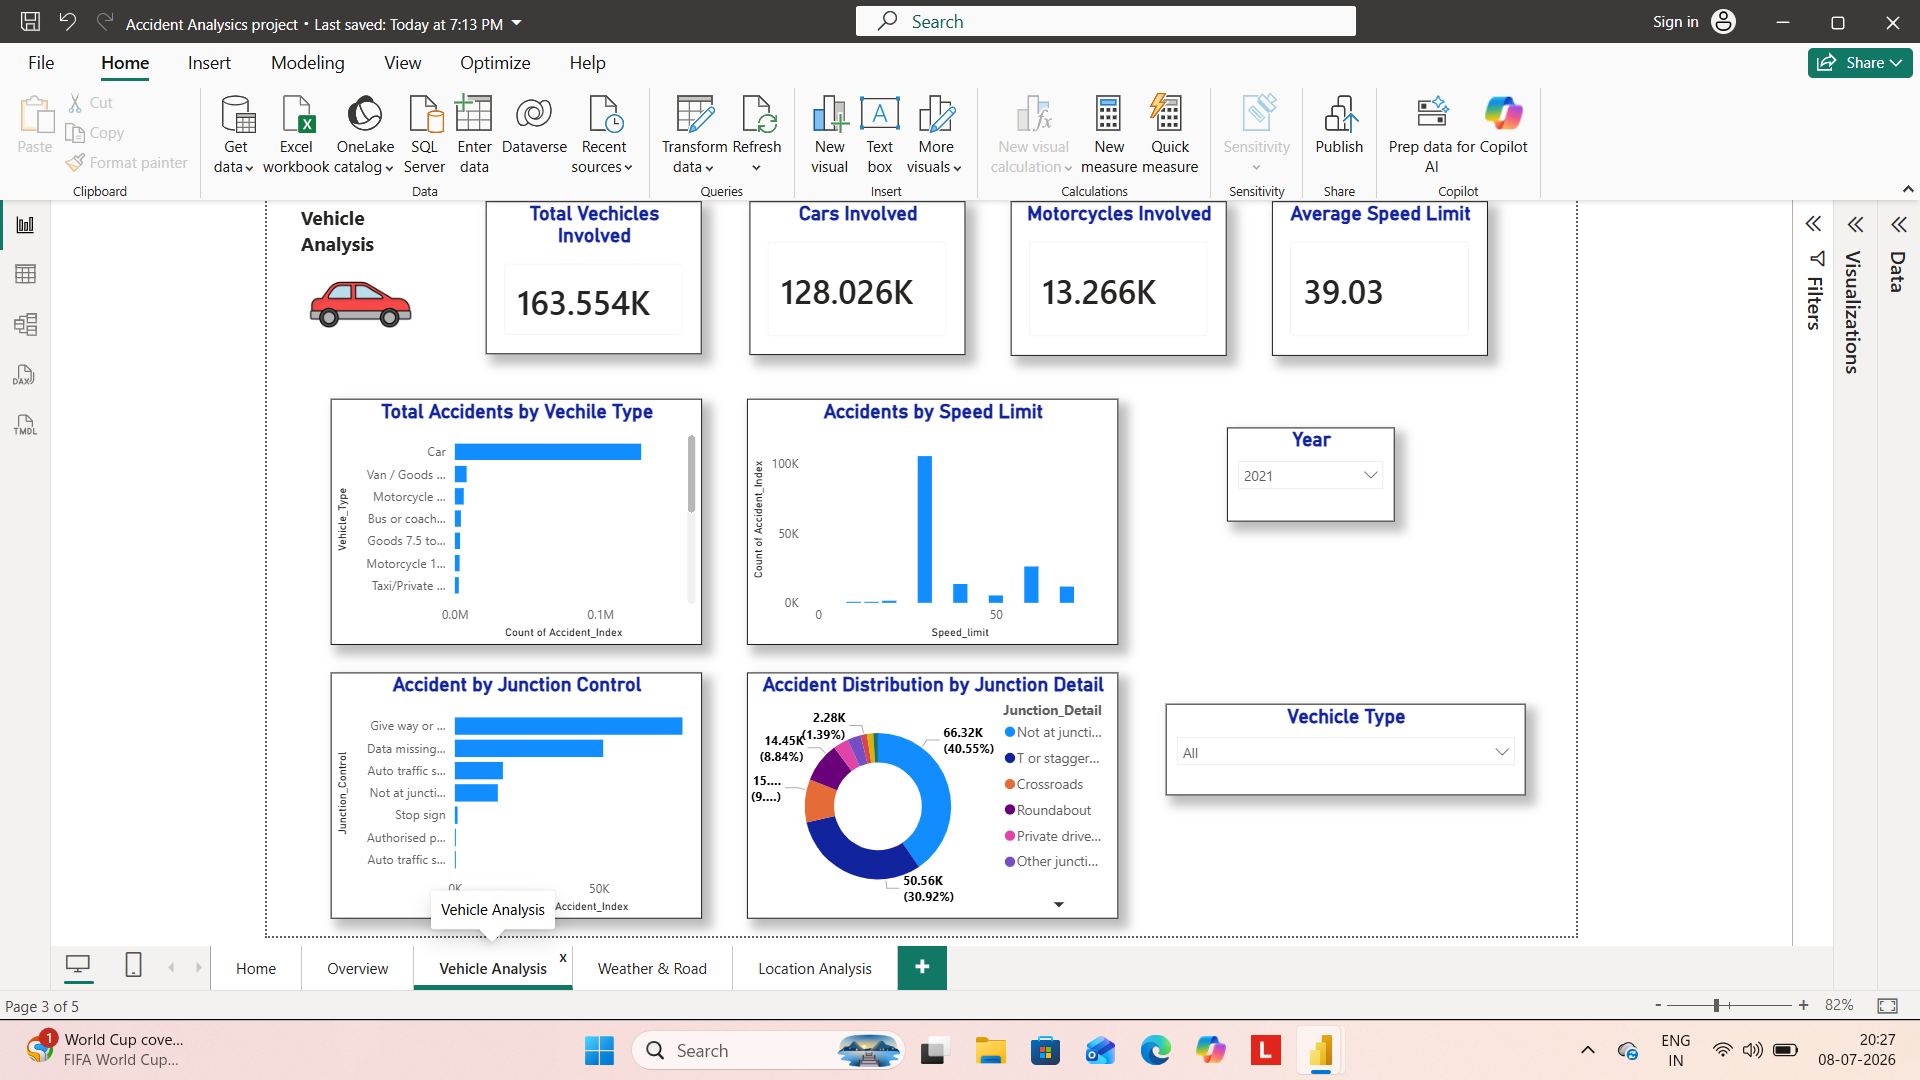

Layout of this report page (visuals, bound fields, positions):
{"tool":"powerbi","page":{"name":"Vehicle Analysis","canvas":[1280,720],"ordinal":2},"visuals":[{"type":"image","box":[15.5,21.1,152.1,108.5],"z":0},{"type":"textbox","box":[28.2,0,139.4,74.6],"z":1000},{"type":"cardVisual","title":"Total Vechicles Involved","fields":{"Data":["CountNonNull(Road Accident Data.Vehicle_Type)"]},"box":[214.1,1.4,211.3,149.3],"z":2000},{"type":"cardVisual","title":"Cars Involved","fields":{"Data":["CountNonNull(Road Accident Data.Vehicle_Type)"]},"box":[471.8,1.4,211.3,150.7],"z":3000},{"type":"cardVisual","title":"Motorcycles Involved","fields":{"Data":["CountNonNull(Road Accident Data.Vehicle_Type)"]},"box":[727.5,1,211,151],"z":4000},{"type":"cardVisual","title":"Average Speed Limit","fields":{"Data":["Avg(Road Accident Data.Speed_limit)"]},"box":[983.5,1,211,151],"z":5000},{"type":"clusteredBarChart","title":"Total Accidents by Vechile Type","fields":{"Category":["Road Accident Data.Vehicle_Type"],"Y":["CountNonNull(Road Accident Data.Accident_Index)"]},"box":[62,194.4,363.4,240.8],"z":6000},{"type":"clusteredColumnChart","title":"Accidents by Speed Limit","fields":{"Category":["Road Accident Data.Speed_limit"],"Y":["CountNonNull(Road Accident Data.Accident_Index)"]},"box":[469,194.4,363.4,240.8],"z":7000},{"type":"clusteredBarChart","title":"Accident by Junction Control","fields":{"Y":["CountNonNull(Road Accident Data.Accident_Index)"],"Category":["Road Accident Data.Junction_Control"]},"box":[62,462,363,241],"z":8000},{"type":"donutChart","title":"Accident Distribution by Junction Detail","fields":{"Category":["Road Accident Data.Junction_Detail"],"Y":["CountNonNull(Road Accident Data.Accident_Index)"]},"box":[469,462,363,241],"z":9000},{"type":"slicer","title":"Year","fields":{"Values":["Road Accident Data.Accident Date.Variation.Date Hierarchy.Year"]},"box":[939.1,222.6,163.9,91.7],"z":10000},{"type":"slicer","title":"Vechicle Type","fields":{"Values":["Road Accident Data.Vehicle_Type"]},"box":[879.2,492.8,352.2,89.3],"z":11000}]}

Visuals, with their boxes on the page's 1280x720 design canvas (x1, y1, x2, y2). These are canvas units, not pixel positions in the 1920x1080 screenshot, which may show the page scaled, cropped or inside an application window:
image: l=16, t=21, r=168, b=130
textbox: l=28, t=0, r=168, b=75
"Total Vechicles Involved" cardVisual: l=214, t=1, r=425, b=151
"Cars Involved" cardVisual: l=472, t=1, r=683, b=152
"Motorcycles Involved" cardVisual: l=728, t=1, r=938, b=152
"Average Speed Limit" cardVisual: l=984, t=1, r=1194, b=152
"Total Accidents by Vechile Type" clusteredBarChart: l=62, t=194, r=425, b=435
"Accidents by Speed Limit" clusteredColumnChart: l=469, t=194, r=832, b=435
"Accident by Junction Control" clusteredBarChart: l=62, t=462, r=425, b=703
"Accident Distribution by Junction Detail" donutChart: l=469, t=462, r=832, b=703
"Year" slicer: l=939, t=223, r=1103, b=314
"Vechicle Type" slicer: l=879, t=493, r=1231, b=582
